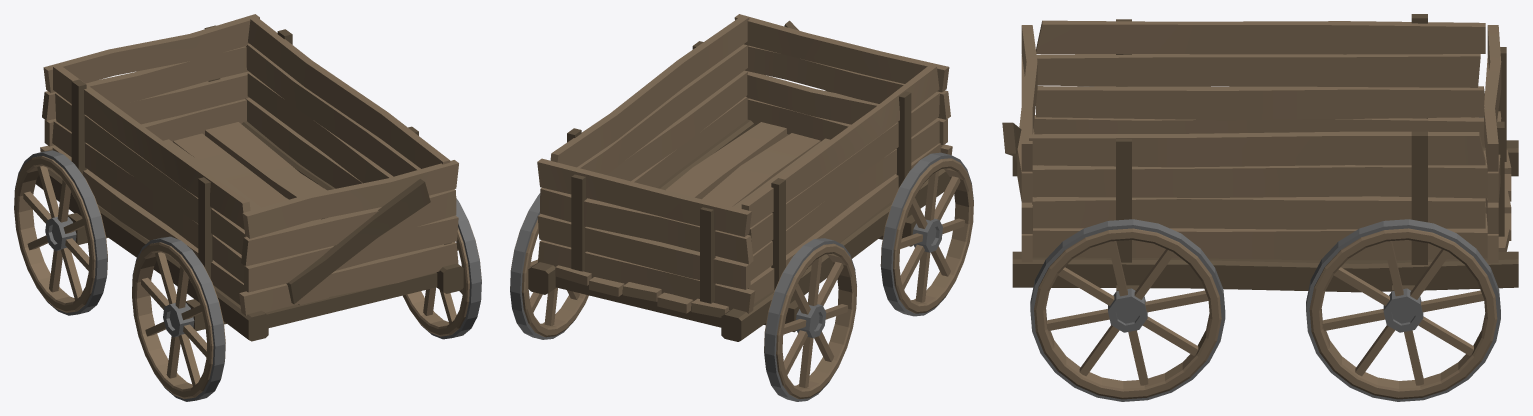
Rendered from cart_e.FBX.
The picture shows the model from 3 angles, left to right: view 1: azimuth 30°, elevation 25°; view 2: azimuth 150°, elevation 25°; view 3: azimuth 270°, elevation 25°; orthographic projection. The views are drawn at different scales.
Parts seen in each view (by area): view 1: cart_e; view 2: cart_e; view 3: cart_e.
Part boxes in pixels (box(x1,y1,x2,y2)): cart_e: box(14, 14, 481, 401); cart_e: box(510, 14, 973, 401); cart_e: box(1002, 14, 1518, 401).
Size of the model in its own units: 2.21 by 1.66 by 3.1.
